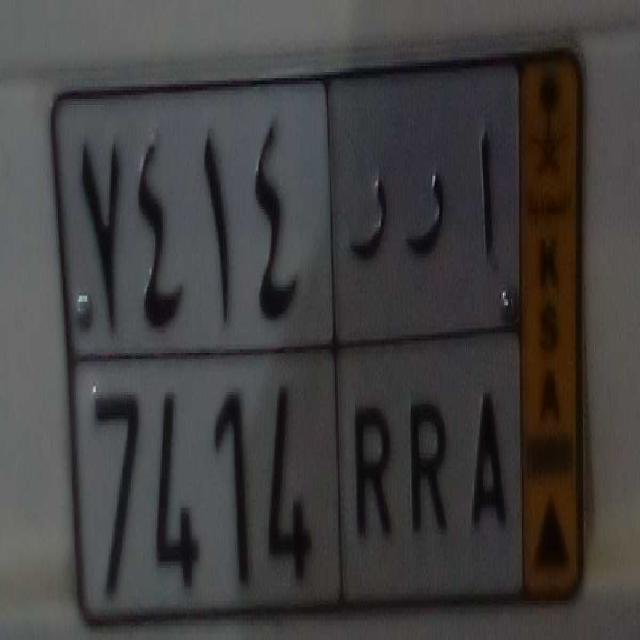license_plate: (73, 342, 522, 625)
